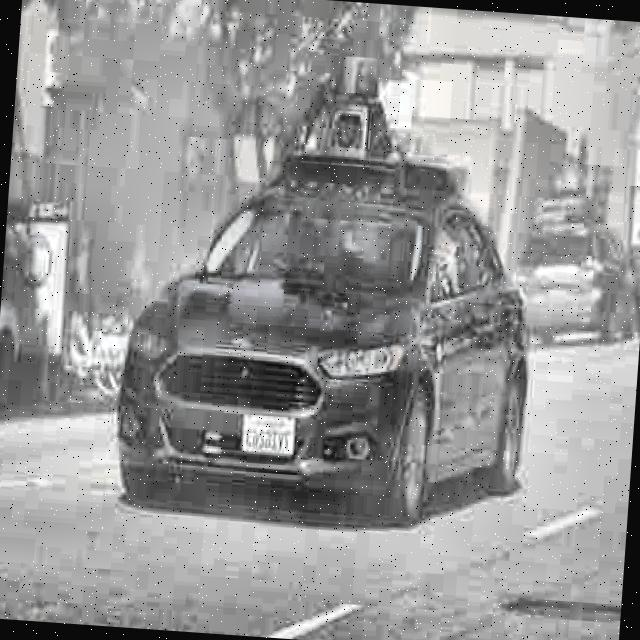license_plate: (238, 412, 297, 457)
